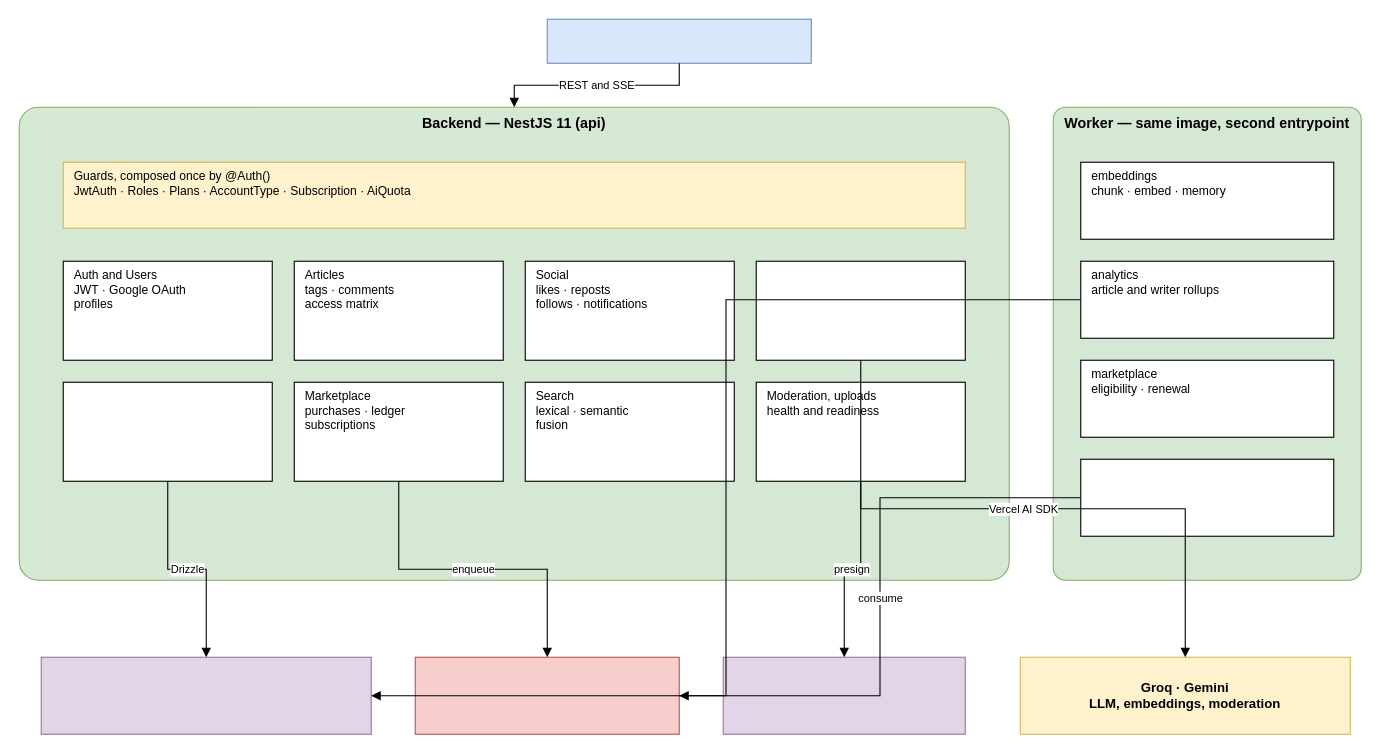
Image size: 1381x754. Some labels were removed from this diagram. The box of each missing label's shape, as (x1, y1, x2, y2) in pixels:
AI chat · inline · RAG memory · insights: (755, 260, 965, 360)
ai-tokens nightly UTC reset: (1080, 458, 1334, 536)
Analytics event ingestion rollup reads: (62, 381, 272, 481)
Frontend — Next.js: (546, 18, 811, 63)
MinIO object storage: (722, 656, 965, 734)
PostgreSQL 16 + pgvector relational · tsvector · HNSW: (40, 656, 371, 734)
Redis BullMQ broker only: (414, 656, 679, 734)
